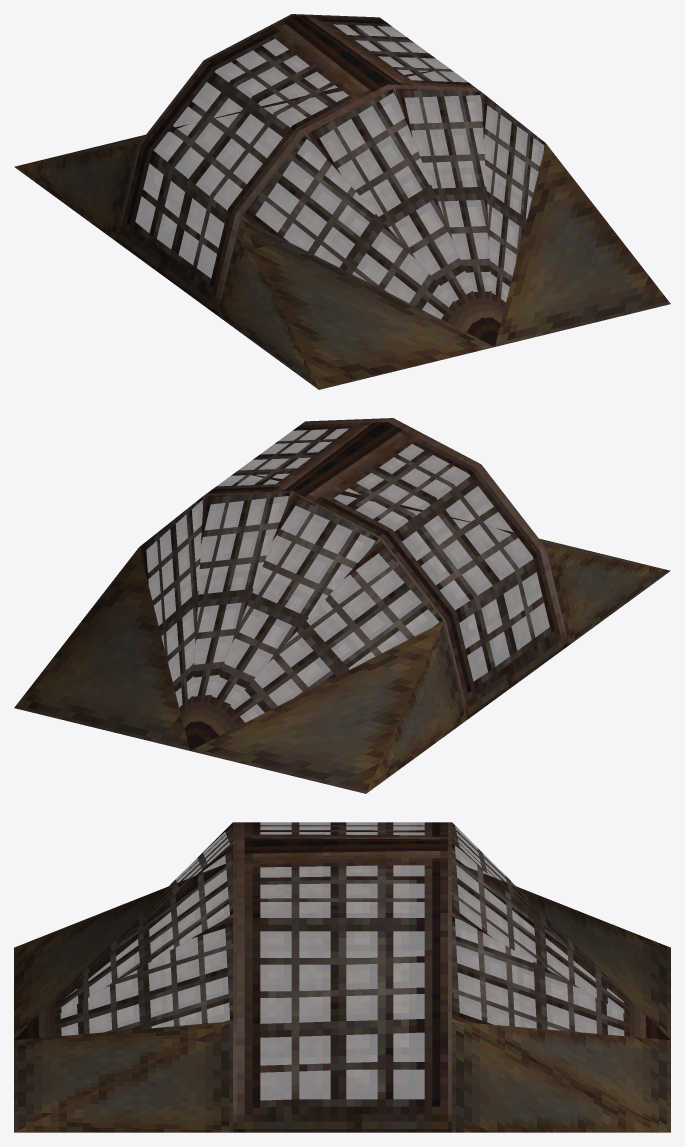
The picture shows the model from 3 angles, top to bottom: view 1: azimuth 30°, elevation 25°; view 2: azimuth 150°, elevation 25°; view 3: azimuth 270°, elevation 25°; orthographic projection. The views are drawn at different scales.
Visible parts, largest first — view 1: Joke_obj_080; view 2: Joke_obj_080; view 3: Joke_obj_080.
Boxes of the visible parts, x1,y1,x2,y2 form: Joke_obj_080: [14, 14, 670, 389]; Joke_obj_080: [14, 418, 670, 793]; Joke_obj_080: [14, 822, 670, 1132].
Bounding box in the file's own units: 2 × 1 × 3.
2 materials, 2 textured.
